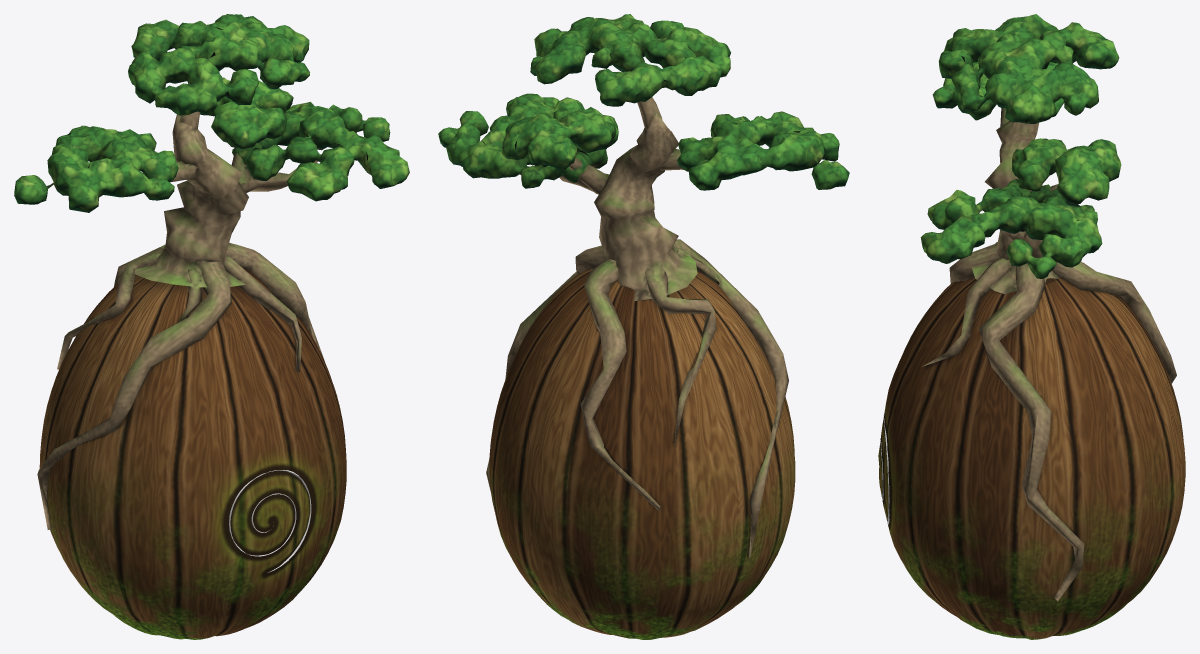
Rendered from AncientGroveEgg.fbx.
3 views of the same model, side by side, from view 1: azimuth 30°, elevation 25°; view 2: azimuth 150°, elevation 25°; view 3: azimuth 270°, elevation 25° (orthographic).
Parts seen in each view (by area): view 1: AncientGroveEgg_Body, AncientGroveEgg_Glow_5cff2e; view 2: AncientGroveEgg_Body; view 3: AncientGroveEgg_Body.
Part boxes in pixels (x1=…): AncientGroveEgg_Body: x1=14, y1=14, x2=409, y2=639; AncientGroveEgg_Glow_5cff2e: x1=229, y1=470, x2=311, y2=572; AncientGroveEgg_Body: x1=438, y1=14, x2=849, y2=639; AncientGroveEgg_Body: x1=878, y1=14, x2=1185, y2=639.
Size of the model in its own units: 3.04 by 4.41 by 2.05.
Materials: 2 (1 with a texture image).
